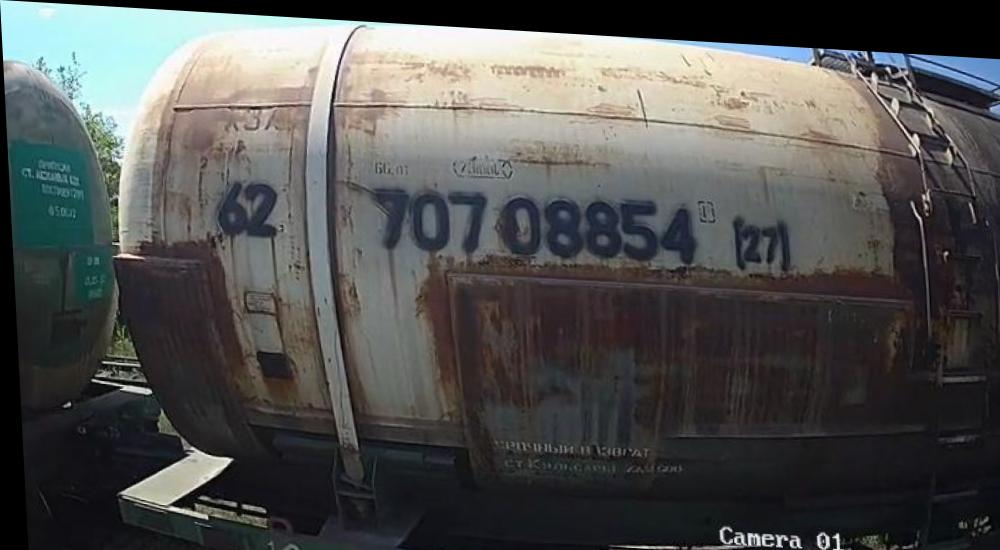Wagon-number: (367, 181, 701, 261)
